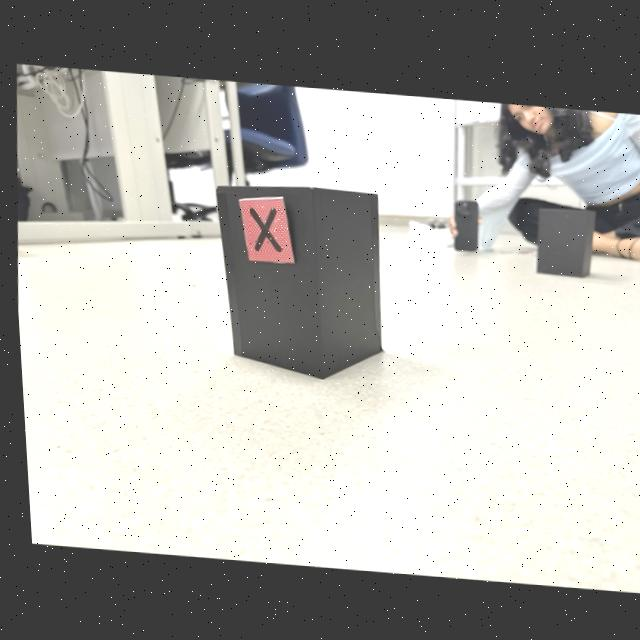X: (248, 205, 279, 251)
